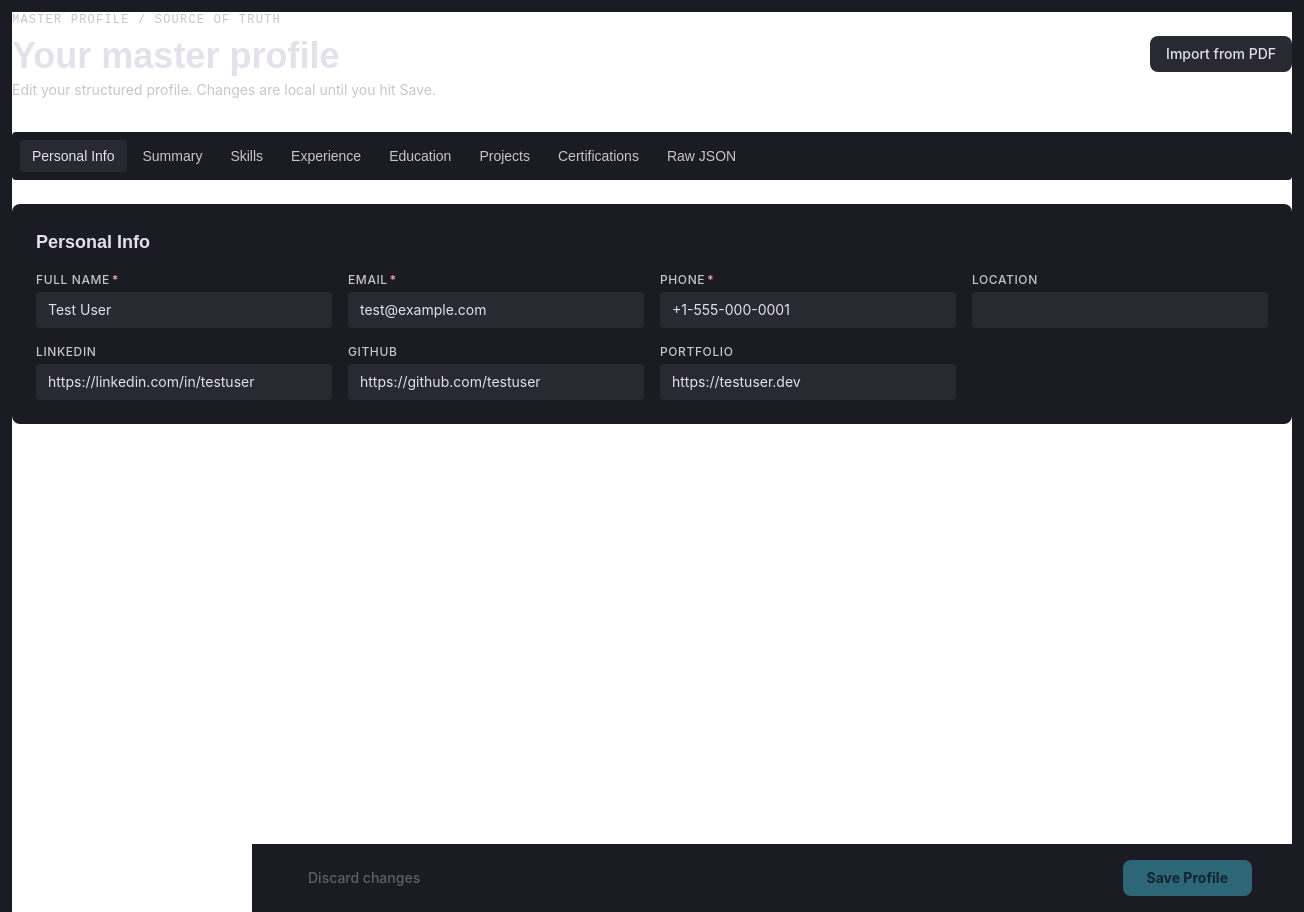
Test: ProfilePage › renders Education tab
The width and height of the screenshot is (1304, 912).
What coordinates should you click on to do the following:
click the tab "Education"
I would click on:
 (420, 156)
Its box is [377,140,463,172].
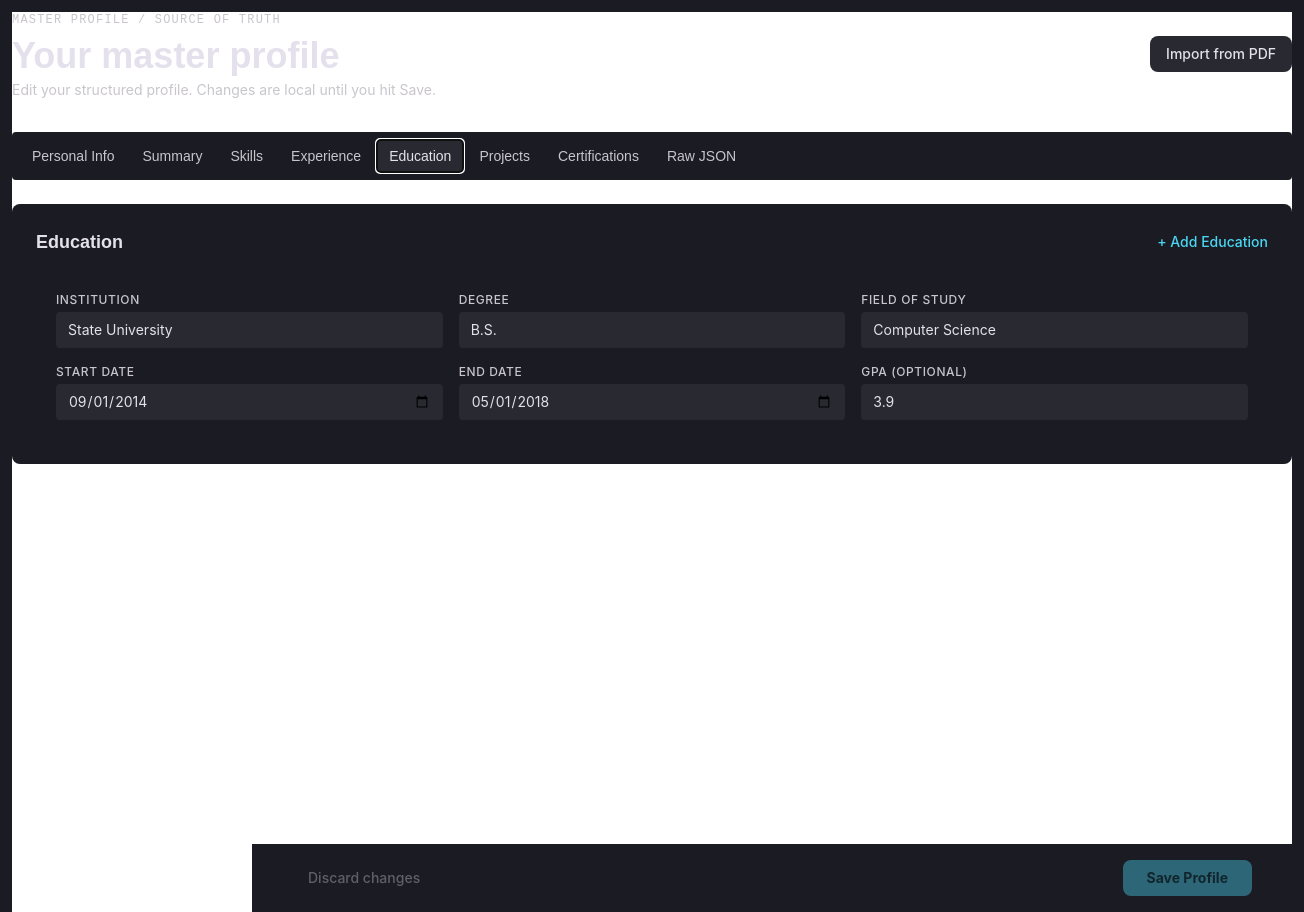
Result: the field showing "State University" is shown at [56,312,443,348]
